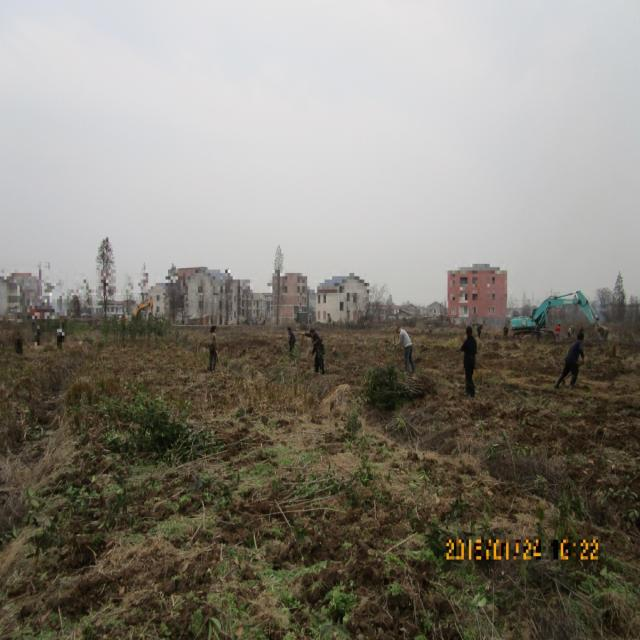excavator: (510, 290, 609, 342), (132, 296, 154, 319)
